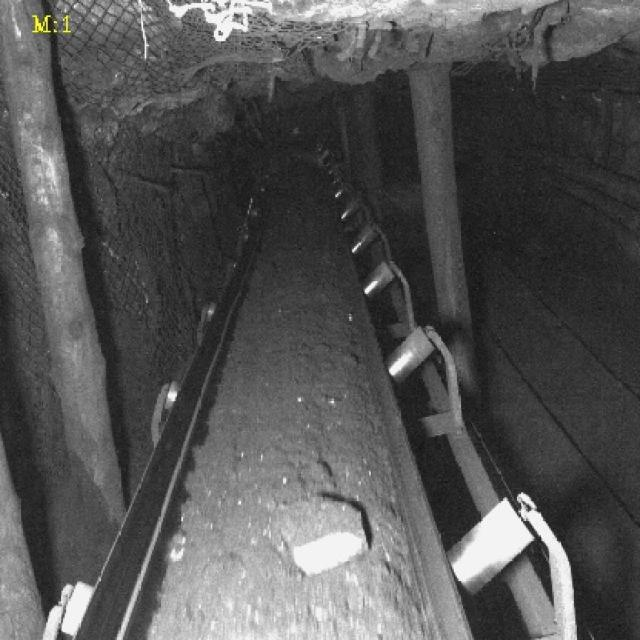large_sized_coal: (275, 494, 371, 572)
